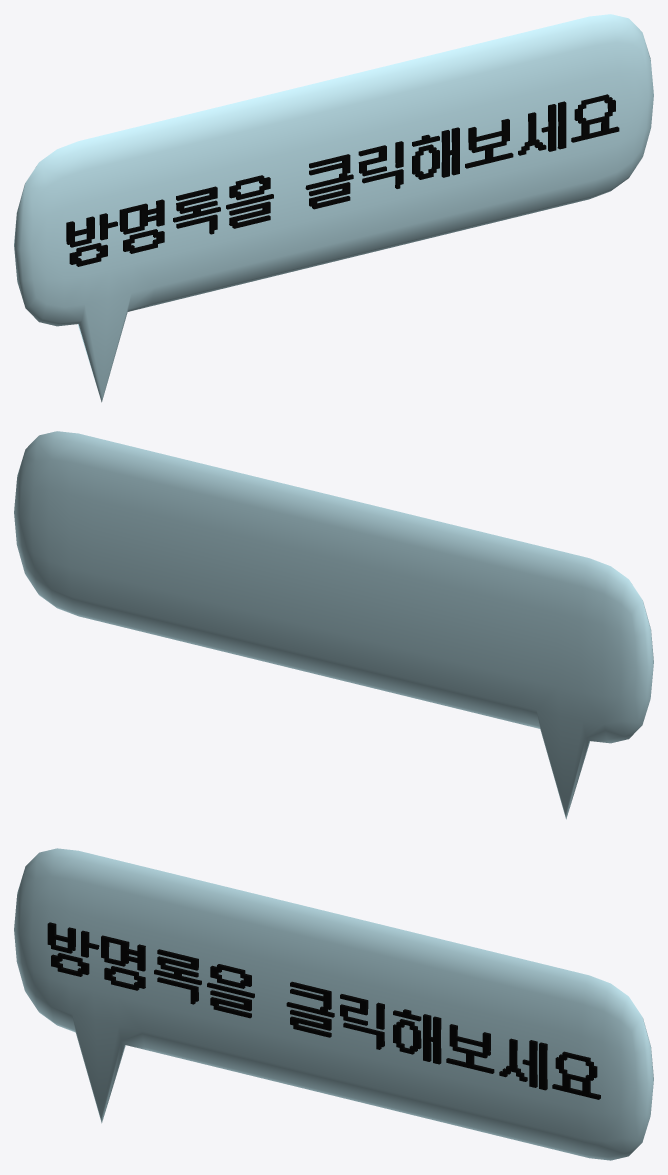
Rendered from talk3.glb.
3 renders of one model, top to bottom at view 1: azimuth 30°, elevation 25°; view 2: azimuth 150°, elevation 25°; view 3: azimuth 330°, elevation 25°, orthographic.
Parts seen in each view (by area): view 1: Text_1; view 2: Text_1; view 3: Text_1.
Boxes of the visible parts, x1,y1,x2,y2 form: Text_1: [14, 14, 653, 402]; Text_1: [14, 431, 653, 819]; Text_1: [14, 848, 653, 1160].
Size of the model in its own units: 6.86 by 2.74 by 0.354.
